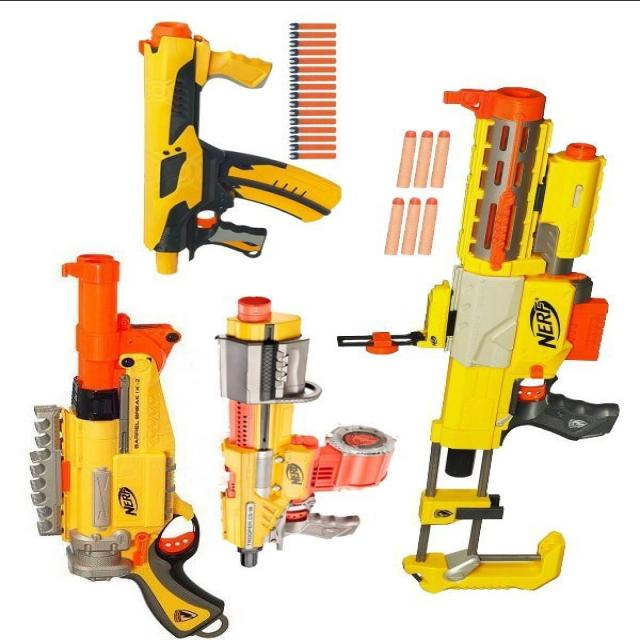Nerf gun: (390, 81, 623, 594), (16, 247, 236, 638), (135, 16, 347, 282), (213, 288, 397, 576)
